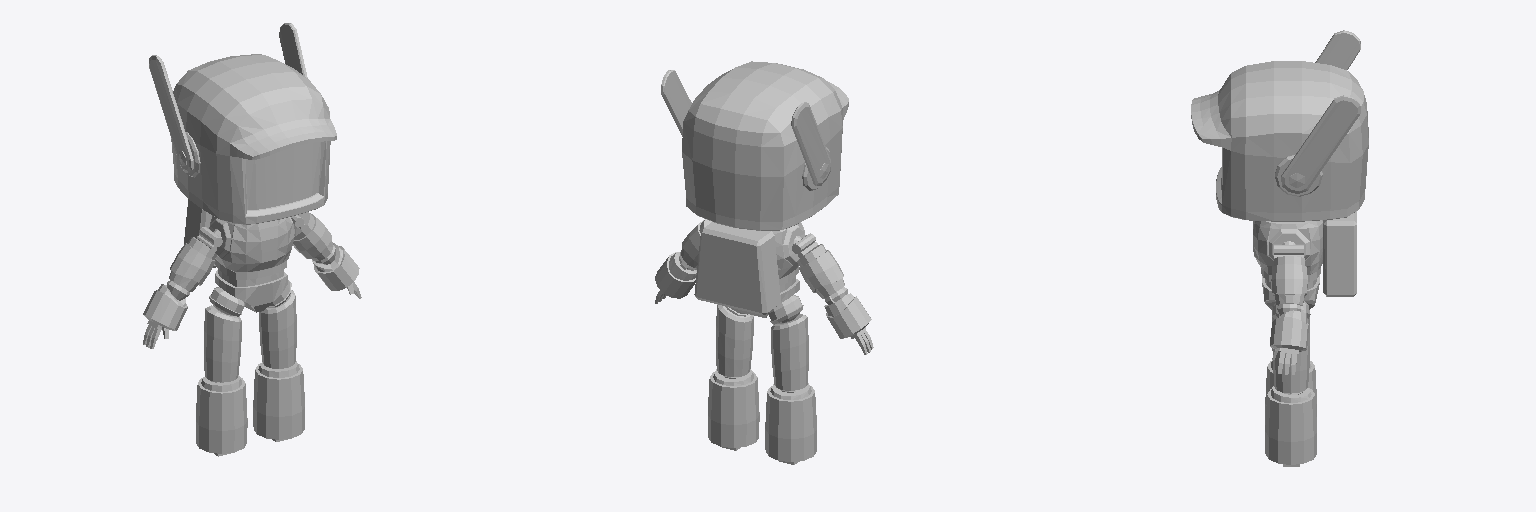
The model's file is RobotLDAR_01.obj.
The picture shows the model from 3 angles: view 1: azimuth 30°, elevation 25°; view 2: azimuth 150°, elevation 25°; view 3: azimuth 270°, elevation 25°; orthographic projection.
Parts seen in each view (by area): view 1: RobotLDAR; view 2: RobotLDAR; view 3: RobotLDAR.
Part boxes in pixels (x1,y1,x2,y2): RobotLDAR: (143,23,361,456); RobotLDAR: (655,61,873,464); RobotLDAR: (1191,30,1368,466).
Size of the model in its own units: 1.89 by 3.29 by 1.37.